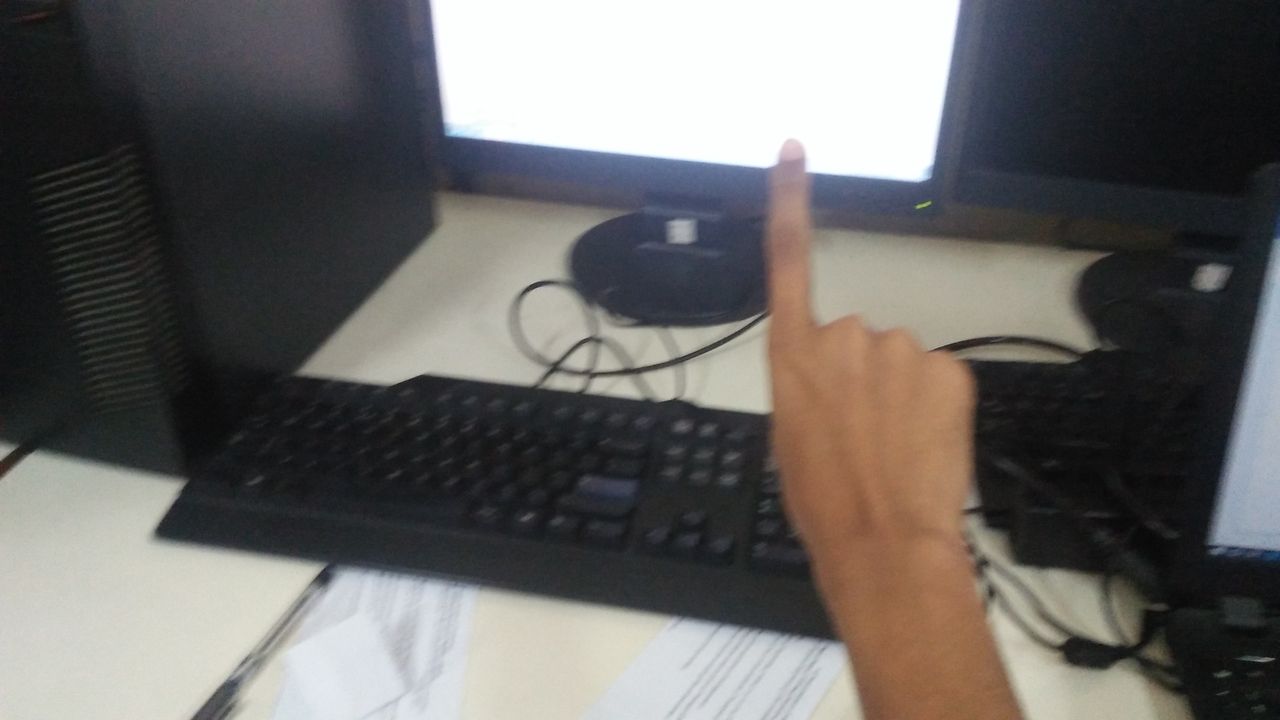fingertip: (770, 128, 818, 166)
